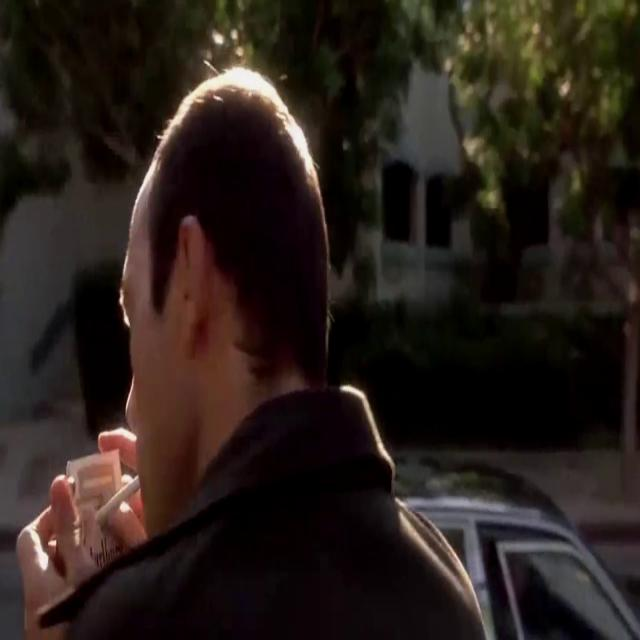Smooking: (78, 461, 149, 521)
